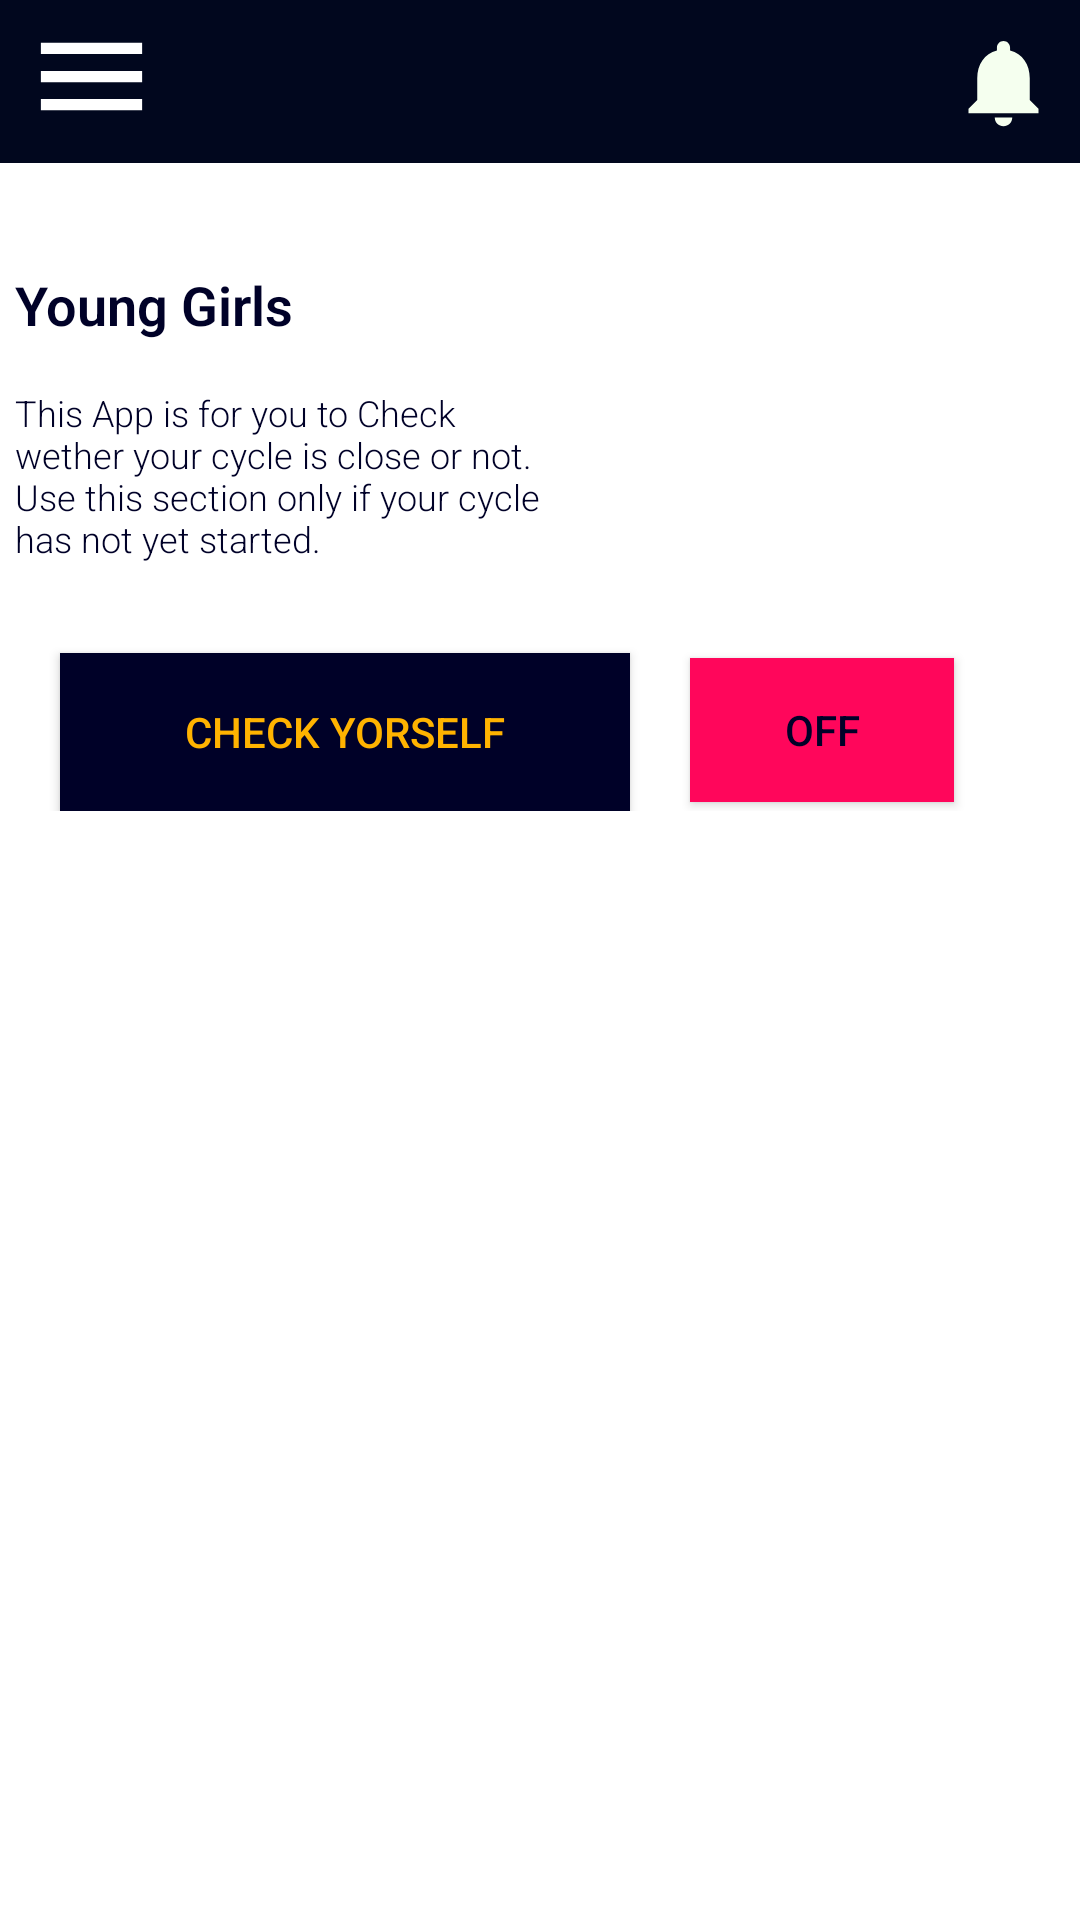

Screen size 1080 × 1920. Icon name, then its box in pixels as (x1, y1, x2, y2):
menu: (40, 42, 143, 111)
notifications: (968, 41, 1039, 127)
